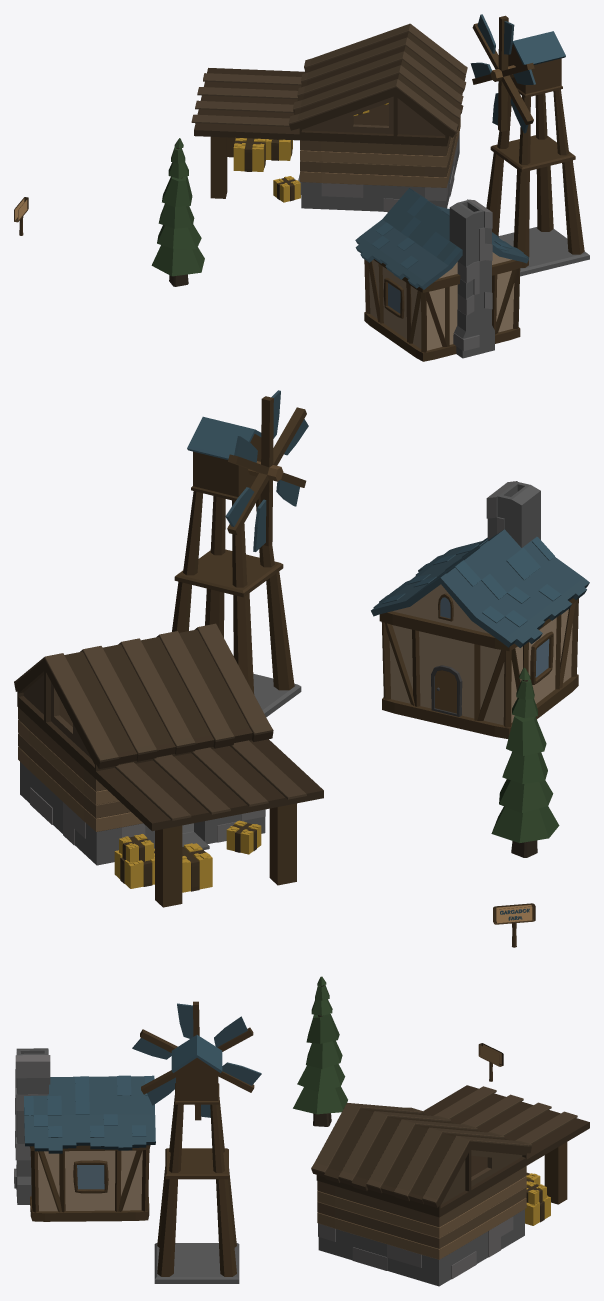
Rendered from Gargadok.glb.
3 views of the same model, one above another, from view 1: azimuth 30°, elevation 25°; view 2: azimuth 150°, elevation 25°; view 3: azimuth 270°, elevation 25° (orthographic). The views are drawn at different scales.
Parts seen in each view (by area): view 1: Barn-1, Gargadok House, Weather Mill, Dark Pine.002, WeatherMillFan; view 2: Barn-1, Gargadok House, Weather Mill, Dark Pine.002, WeatherMillFan, Gargadok Farm Sign; view 3: Barn-1, Gargadok House, Weather Mill, Dark Pine.002, WeatherMillFan, Gargadok Farm Sign.
Boxes of the visible parts, bbox=[...] form: Barn-1: bbox=[191, 23, 467, 212]; Gargadok House: bbox=[355, 188, 528, 361]; Weather Mill: bbox=[486, 31, 589, 276]; Dark Pine.002: bbox=[151, 138, 204, 286]; WeatherMillFan: bbox=[470, 14, 535, 133]; Barn-1: bbox=[14, 623, 323, 907]; Gargadok House: bbox=[371, 481, 589, 738]; Weather Mill: bbox=[172, 416, 301, 717]; Dark Pine.002: bbox=[491, 667, 559, 857]; WeatherMillFan: bbox=[225, 390, 308, 551]; Gargadok Farm Sign: bbox=[493, 903, 535, 947]; Barn-1: bbox=[311, 1085, 589, 1286]; Gargadok House: bbox=[14, 1048, 155, 1221]; Weather Mill: bbox=[154, 1035, 239, 1283]; Dark Pine.002: bbox=[293, 976, 347, 1126]; WeatherMillFan: bbox=[132, 1001, 261, 1120]; Gargadok Farm Sign: bbox=[478, 1043, 503, 1081].
Bounding box in the file's own units: 1.88 × 1.02 × 2.13.
